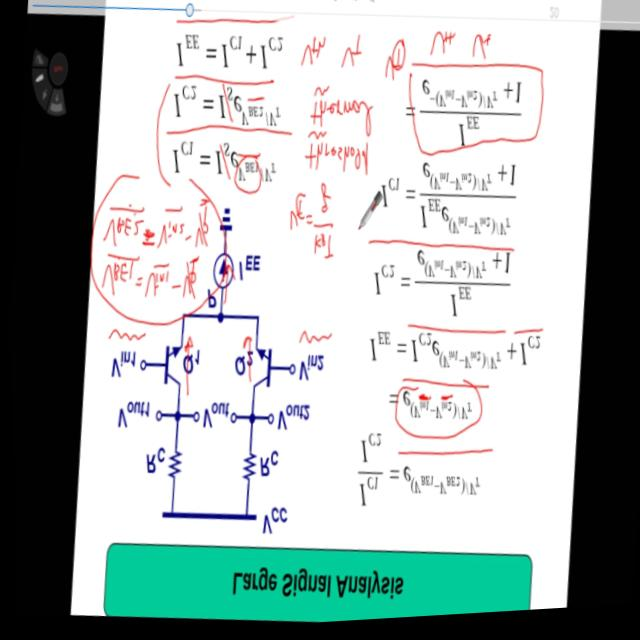panseo: (253, 9, 418, 312), (80, 156, 236, 336)
